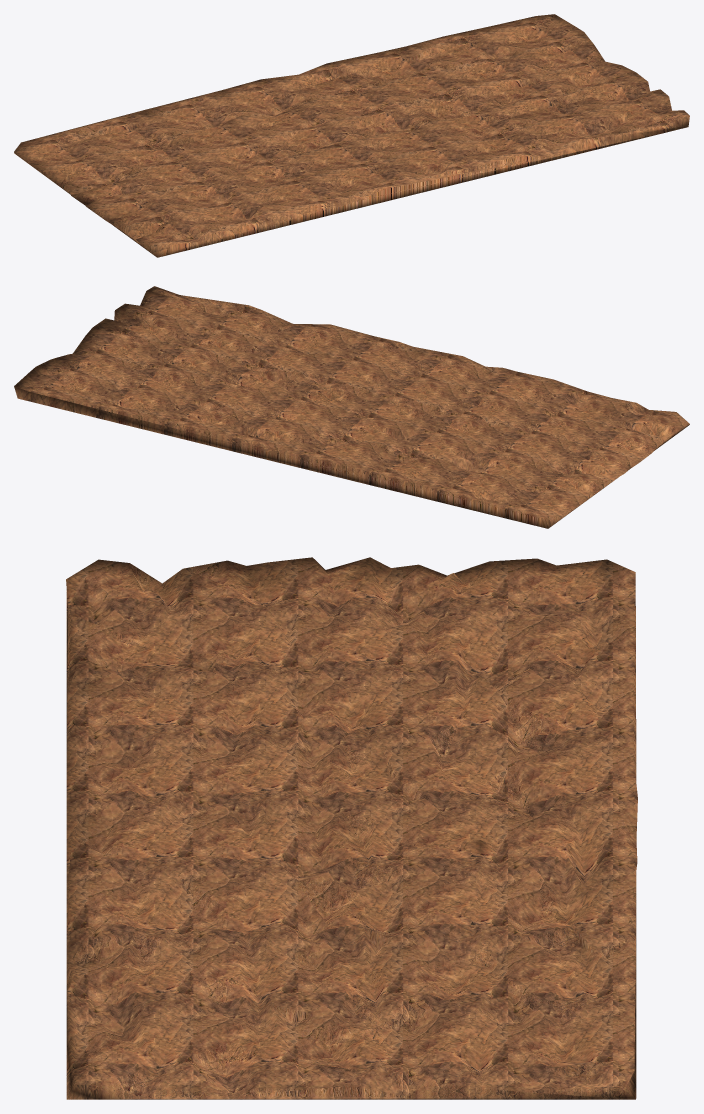
File: sheet rock.obj
3 views of the same model, one above another, from view 1: azimuth 30°, elevation 25°; view 2: azimuth 150°, elevation 25°; view 3: azimuth 270°, elevation 25° (orthographic). The views are drawn at different scales.
Visible parts, largest first — view 1: Cube; view 2: Cube; view 3: Cube.
Part boxes in pixels (left/top/right/bottom): Cube: left=14, top=14, right=689, bottom=257; Cube: left=14, top=286, right=689, bottom=528; Cube: left=66, top=557, right=637, bottom=1099.
Bounding box in the file's own units: 34.54 × 0.8152 × 15.55.
Materials: 1 (1 with a texture image).
